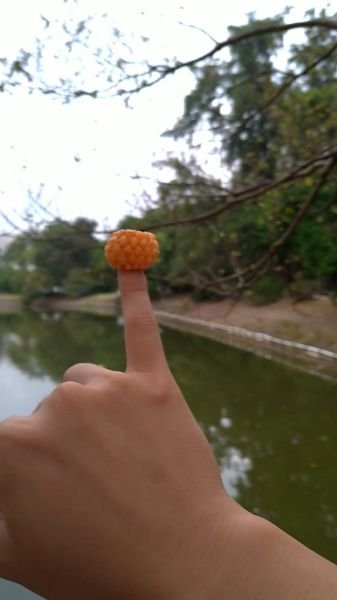eggs: (104, 229, 160, 271)
